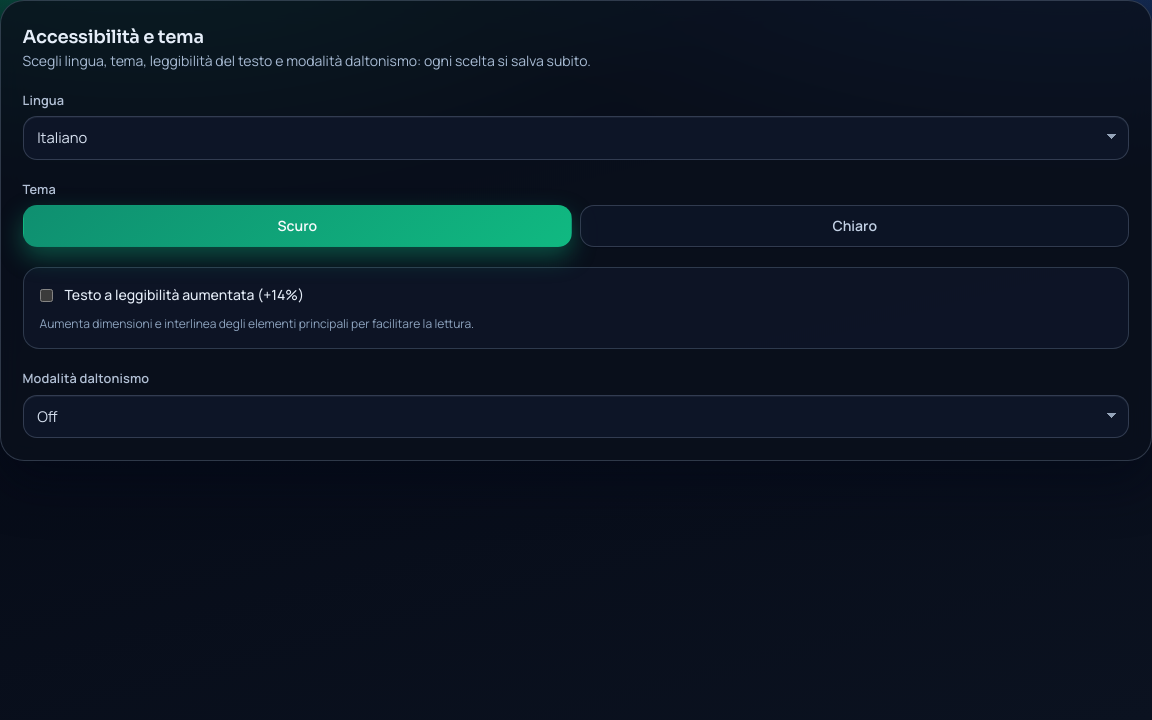
Test case: preferenze salvate a ogni scelta › scelto English invia la lingua con POST /api/locale
The image size is (1152, 720).
Select "English" in the dropdown labelled "Lingua". click: (576, 138)
box: [23,116,1129,160]
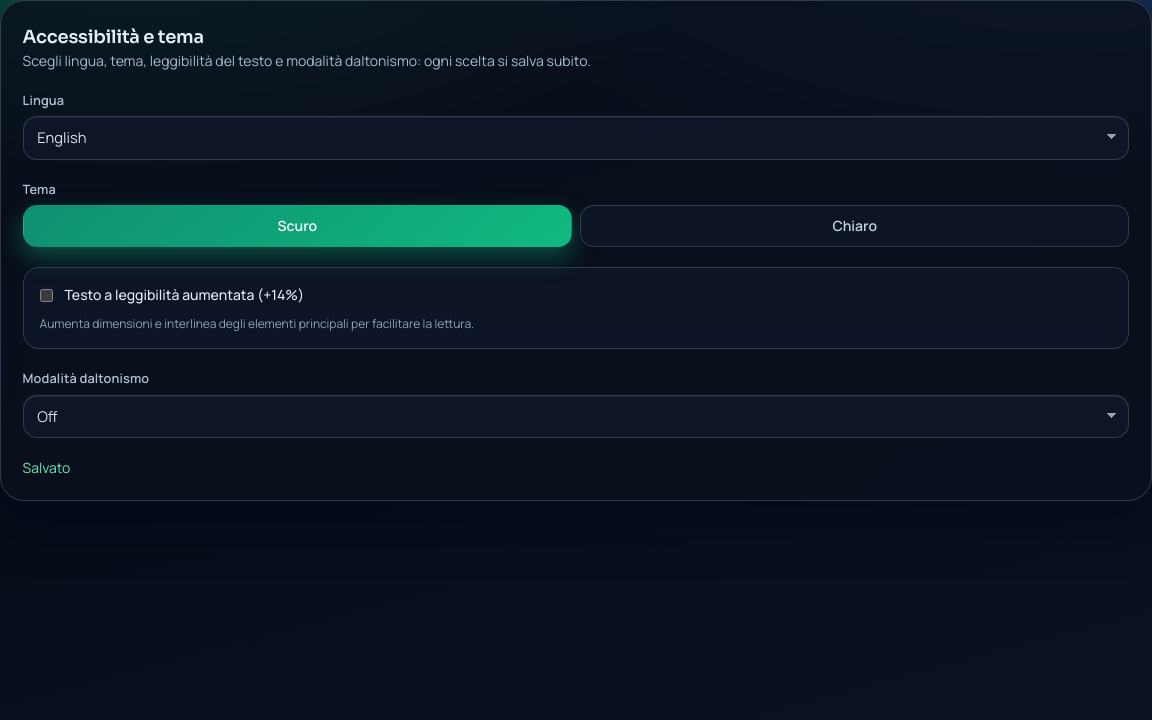
Result: the message reads "Salvato" at [23,458,70,477]
